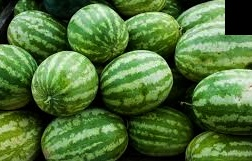watermelon: (99, 50, 175, 116), (41, 110, 130, 160), (32, 49, 97, 117), (176, 23, 252, 78), (68, 4, 130, 59)
